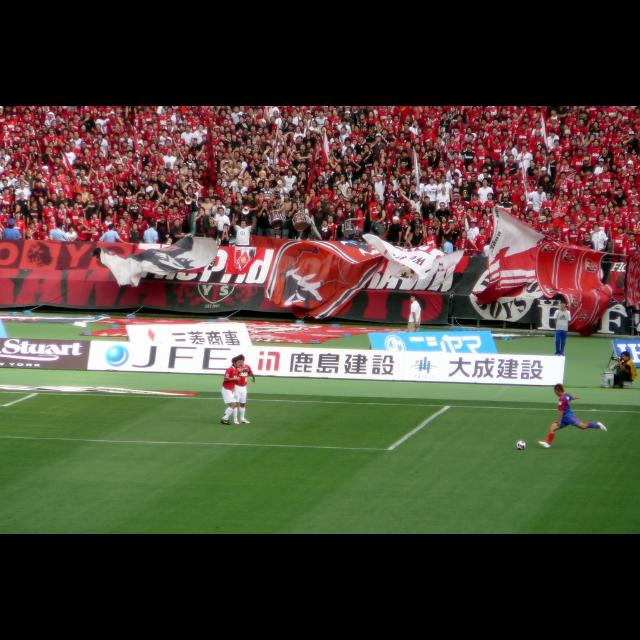Football: (517, 441, 525, 449)
